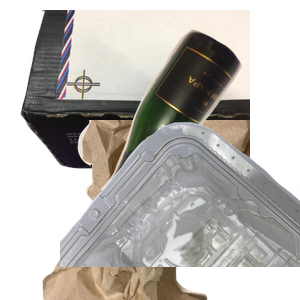cardboard: (18, 10, 258, 171)
glass: (87, 27, 300, 207)
plastic: (60, 120, 300, 300)
trash: (40, 120, 280, 300)
